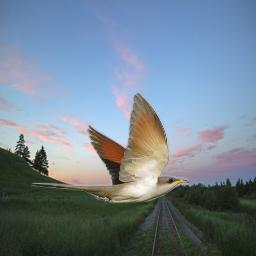Cuckoo: (31, 93, 189, 203)
